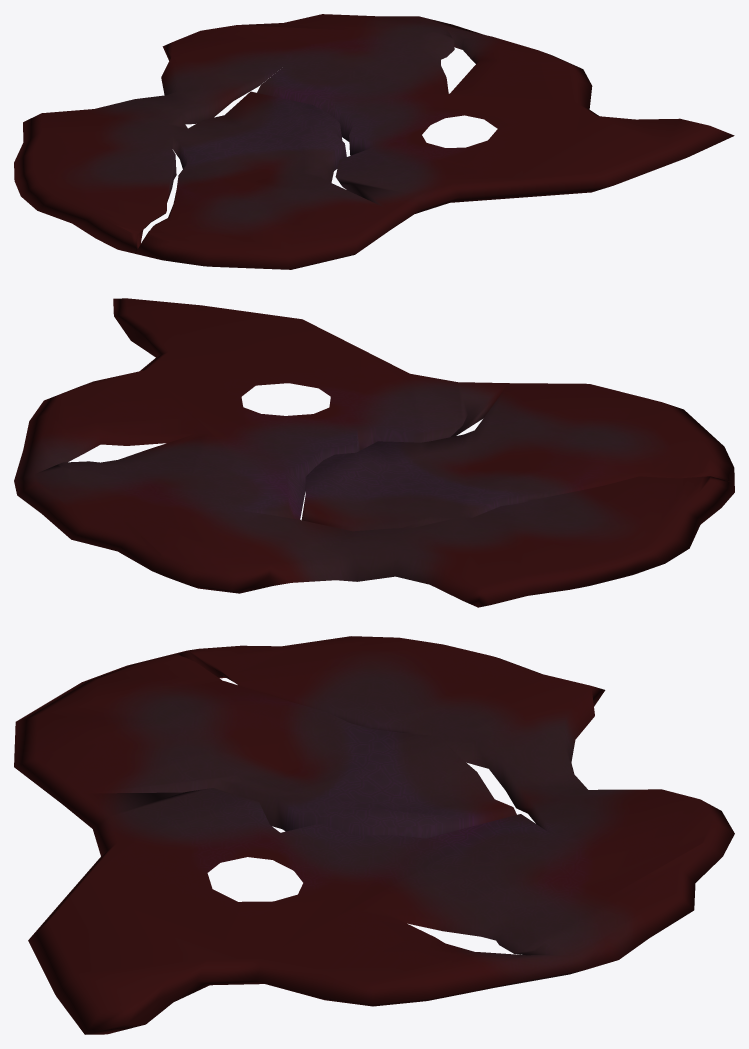
File: nEWpLAT 2.fbx
3 renders of one model, top to bottom at view 1: azimuth 30°, elevation 25°; view 2: azimuth 150°, elevation 25°; view 3: azimuth 270°, elevation 25°, orthographic. The views are drawn at different scales.
Parts seen in each view (by area): view 1: PlayablePlatform1; view 2: PlayablePlatform1; view 3: PlayablePlatform1.
Part boxes in pixels (box(x1,y1,x2,y2)): PlayablePlatform1: box(14, 14, 734, 269); PlayablePlatform1: box(14, 298, 734, 607); PlayablePlatform1: box(14, 636, 734, 1034).
Bounding box in the file's own units: 2051 × 105 × 1571.
